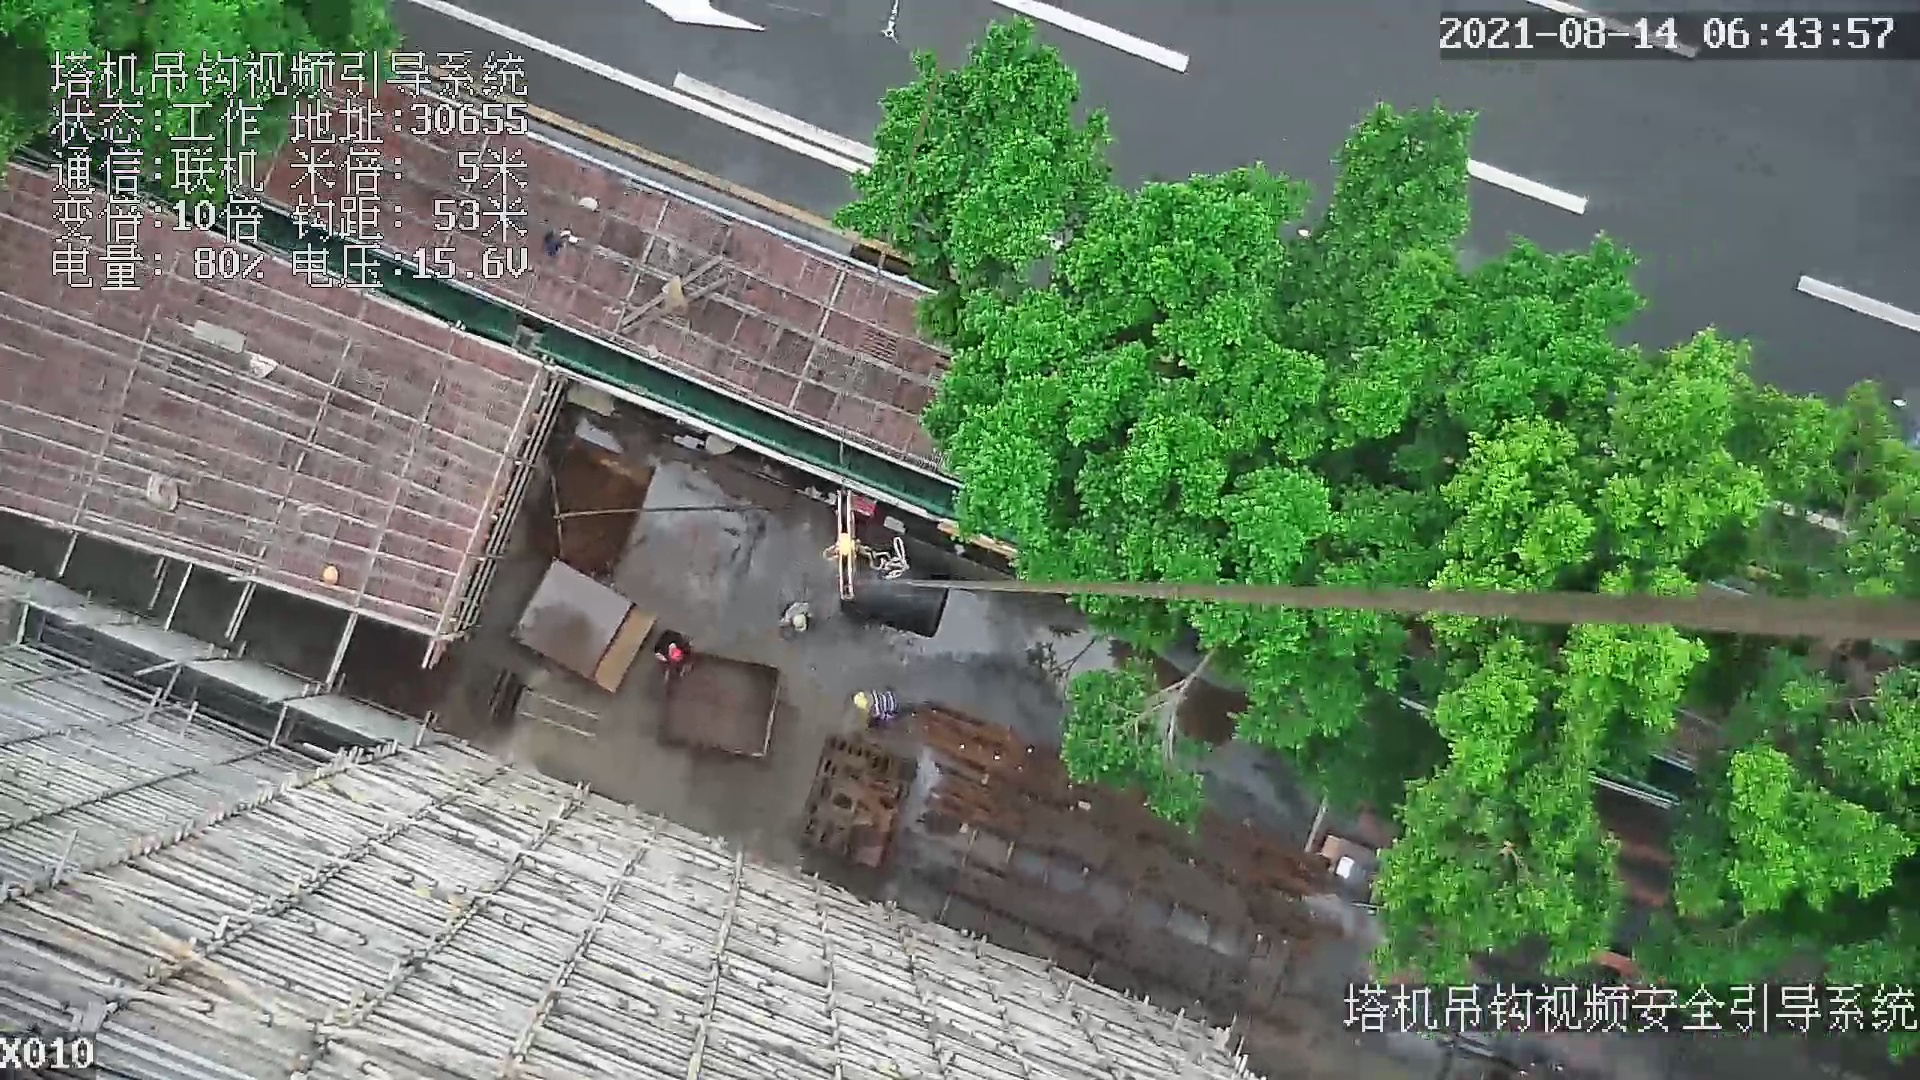helmet: (322, 565, 344, 585), (793, 613, 810, 629), (853, 690, 868, 707), (665, 647, 682, 661)
hook: (814, 487, 872, 604)
person: (777, 595, 821, 643), (854, 683, 905, 726), (653, 630, 695, 673)
